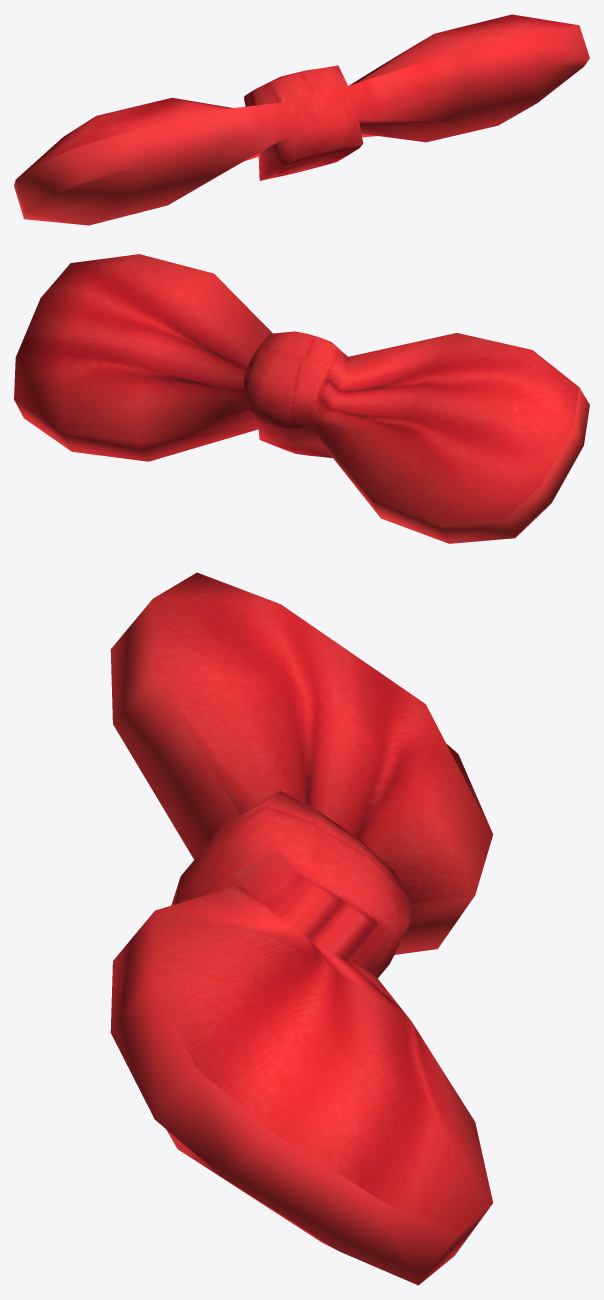
The model's file is Bow.fbx.
3 renders of one model, top to bottom at view 1: azimuth 30°, elevation 25°; view 2: azimuth 150°, elevation 25°; view 3: azimuth 270°, elevation 25°, orthographic. The views are drawn at different scales.
Visible parts, largest first — view 1: Bow; view 2: Bow; view 3: Bow.
Boxes of the visible parts, x1,y1,x2,y2 form: Bow: (14,14,589,225); Bow: (14,254,589,543); Bow: (110,572,493,1285).
Bounding box in the file's own units: 0.9628 × 0.2427 × 0.2993.
1 material, 1 textured.
